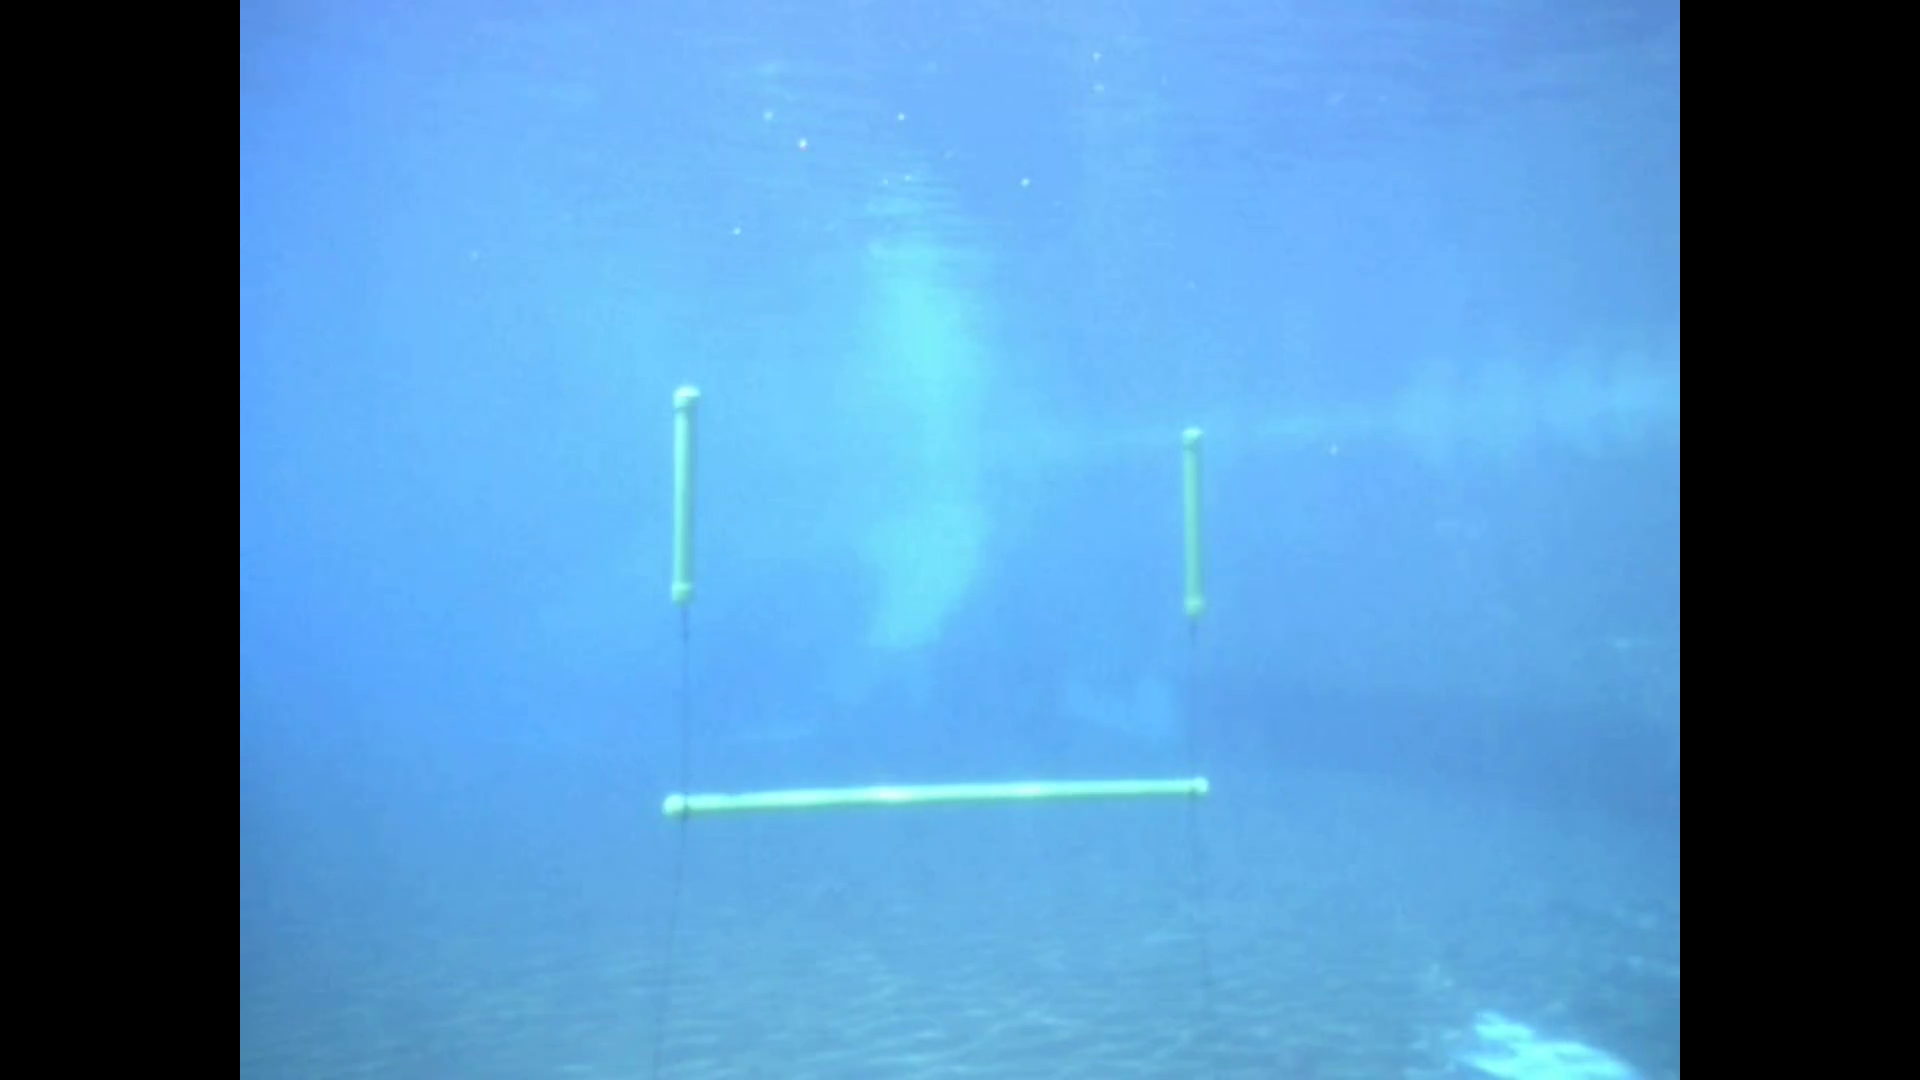gate: (649, 380, 1222, 825)
